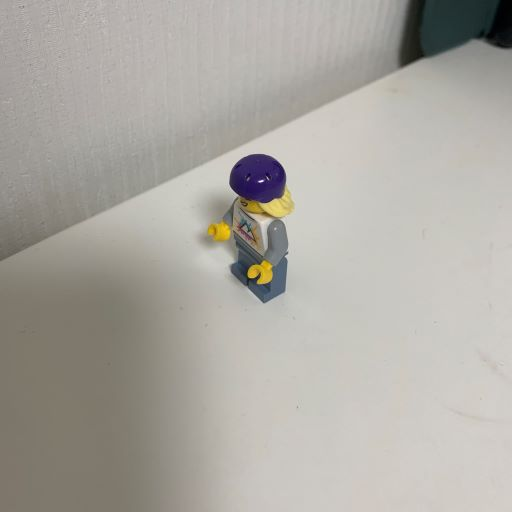human: (199, 150, 311, 306)
